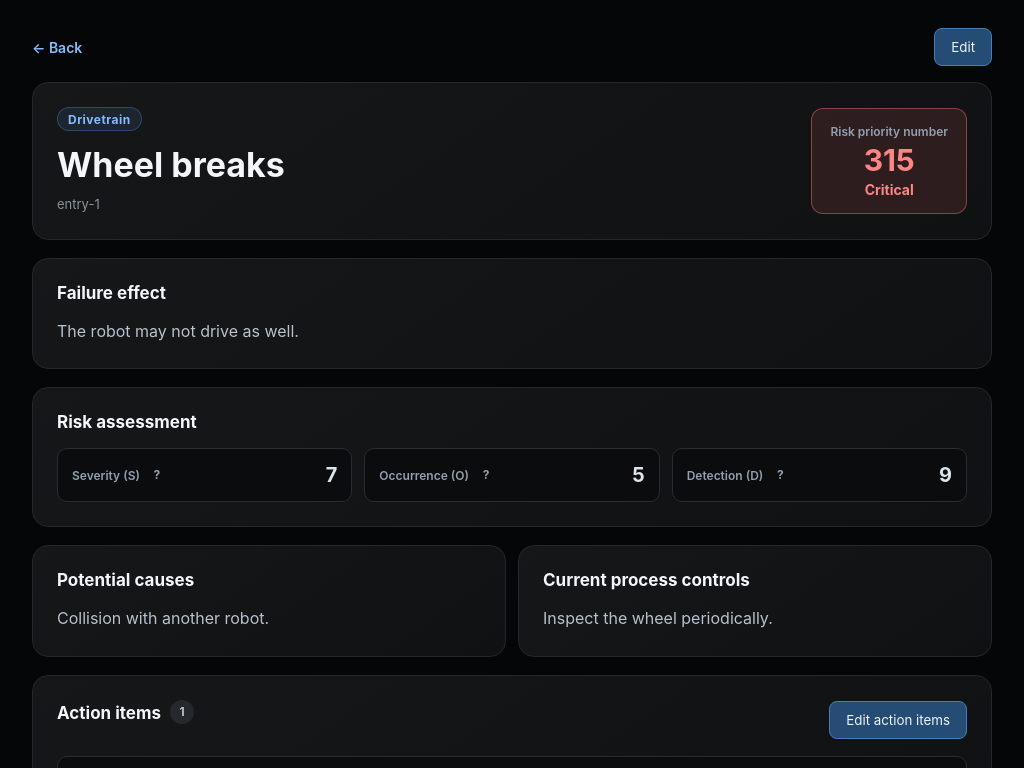
FmeaEntryDetailComponent › updates the RPN risk color while ratings are being edited
Click the button with class "edit-button" at (963, 47), box [934, 28, 992, 66]
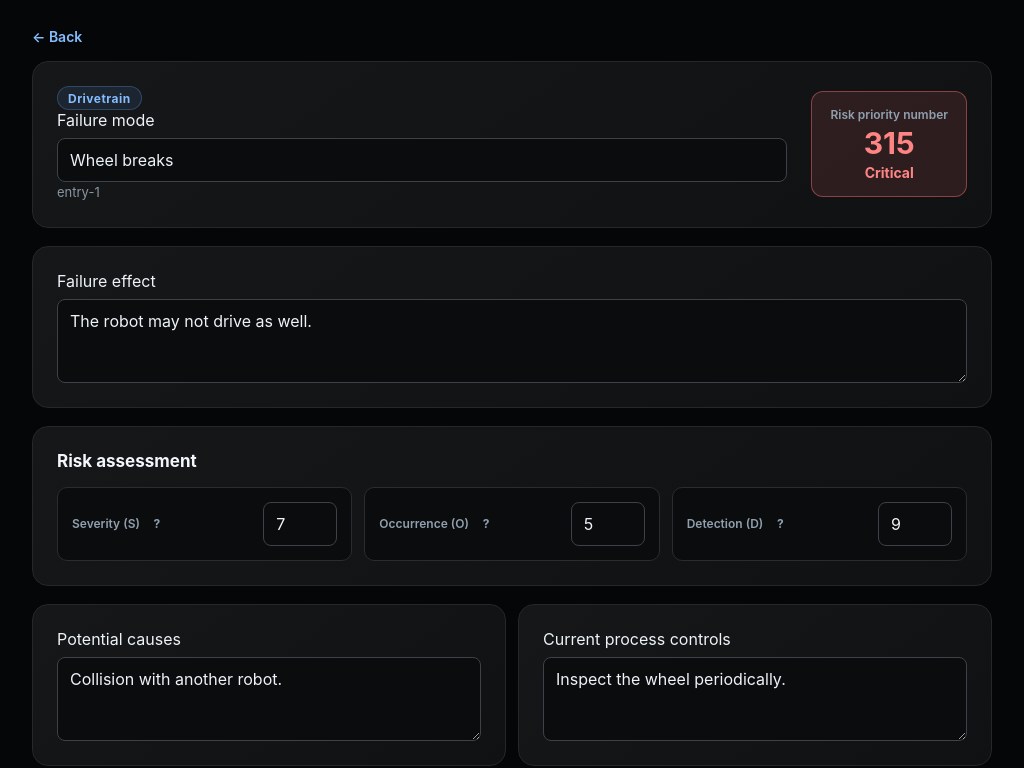
Replace the text in the number field next to "Severity (S)" with "1" at (300, 524), box [263, 502, 337, 546]
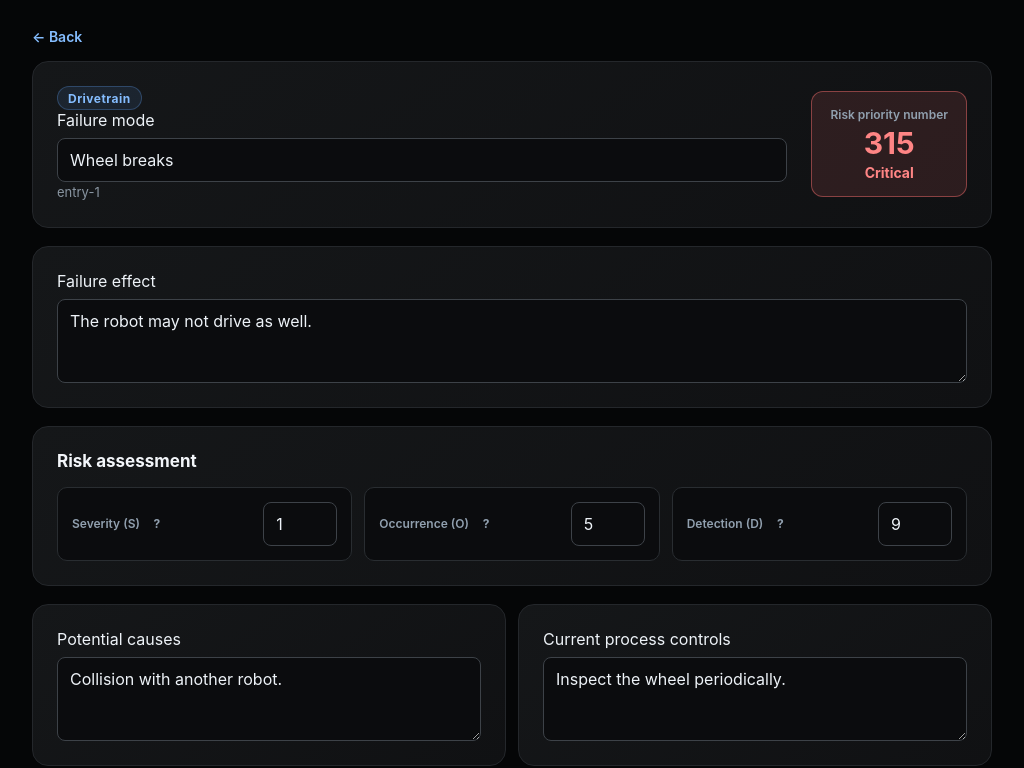
Replace the text in the number field next to "Occurrence (O)" with "1" at (608, 524), box [571, 502, 645, 546]
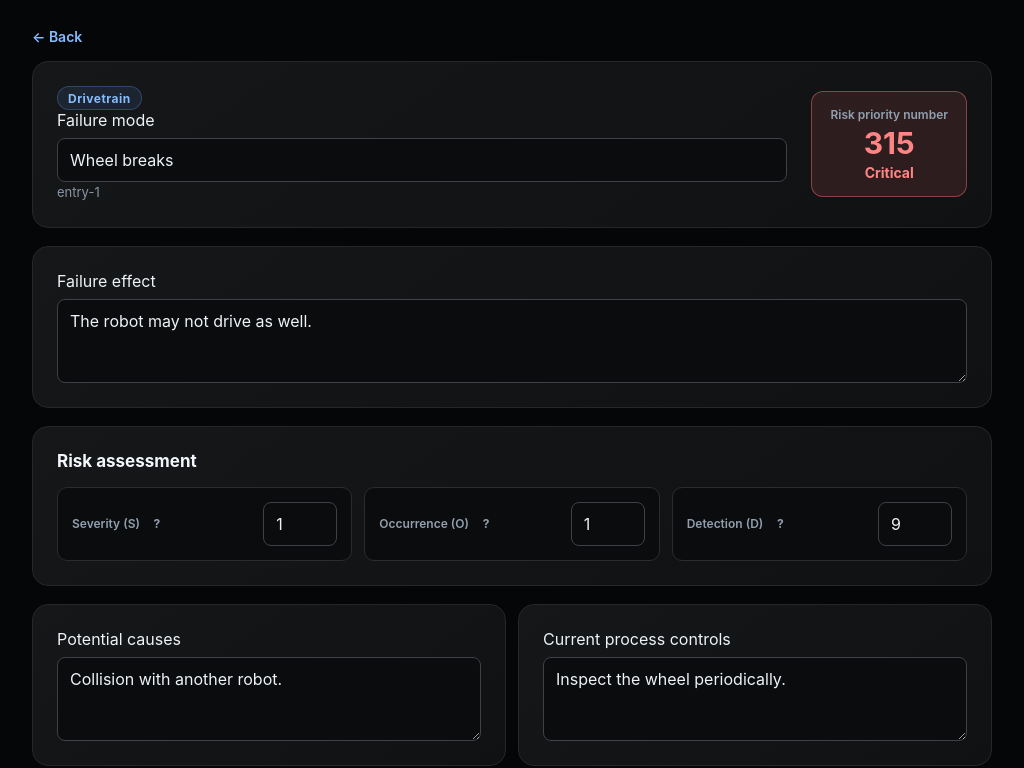
Replace the text in the number field next to "Detection (D)" with "1" at (915, 524), box [878, 502, 952, 546]
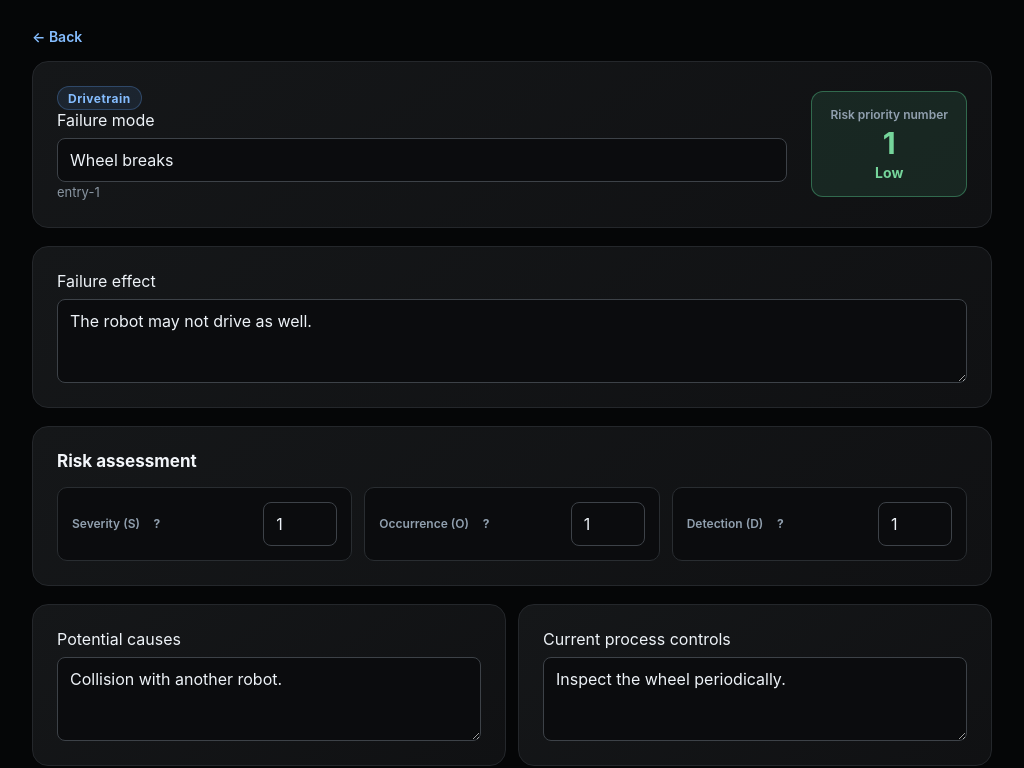
Expected: the text with class "risk-label" reads "low", [875, 164, 903, 181]
